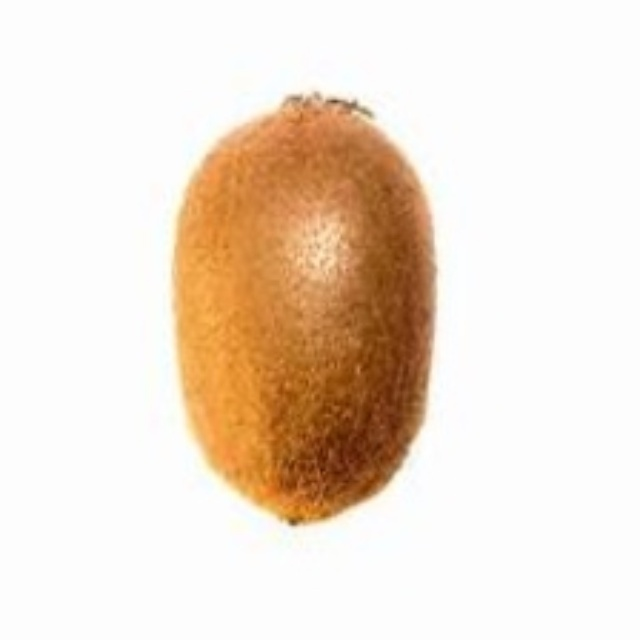kiwi: (160, 104, 462, 529)
